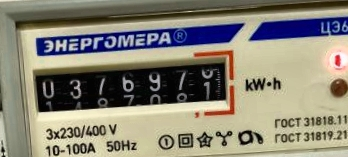0: (40, 76, 56, 99)
1: (201, 79, 212, 102)
3: (68, 77, 82, 99)
6: (119, 69, 136, 93)
7: (93, 72, 109, 96), (173, 66, 189, 90)
9: (146, 69, 162, 92)
screen: (22, 45, 241, 134)
